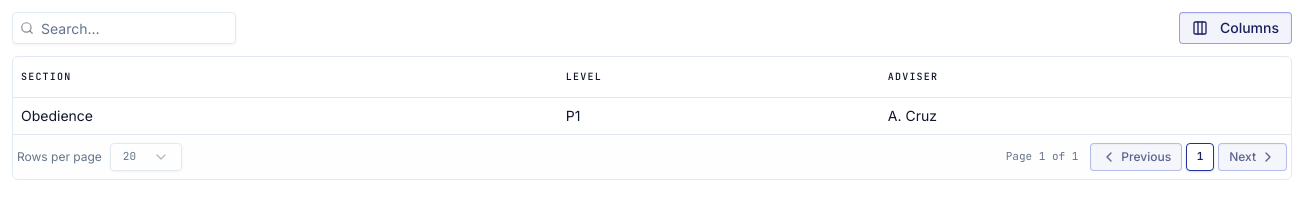
DataTable — Columns visibility menu labels › shows the string header verbatim
Click the button "Columns" at (1235, 28), box [1179,12,1292,44]
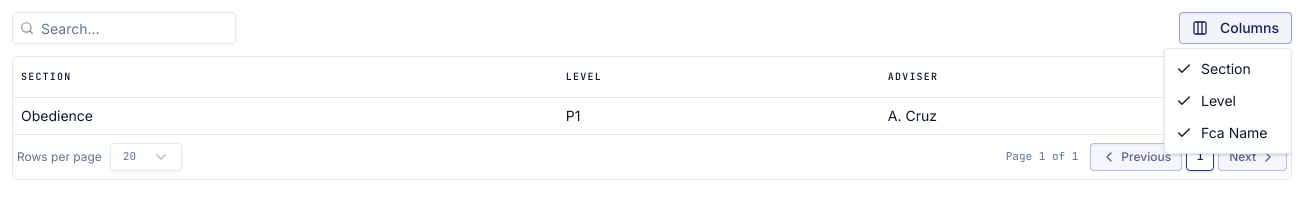
expect the menu item "Section" is shown: met, box [1176,60,1251,77]
